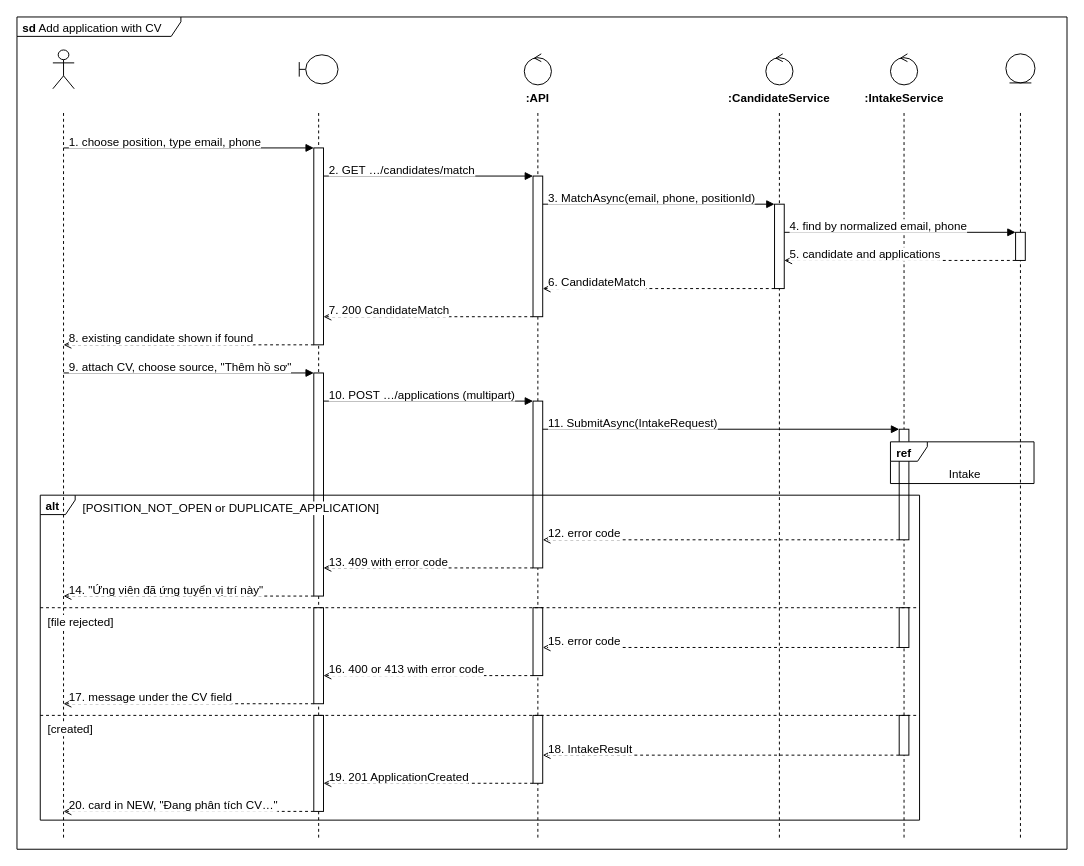
Image size: 1084x866. Some labels were removed from this diagram. The shapes that lost their labels are listed below. From the top down, each one's centre as x and y in pixels, then its label:
At [63,69]: "Recruiter".
At [318,69]: ":Add application modal".
At [1020,68]: ":Database".
